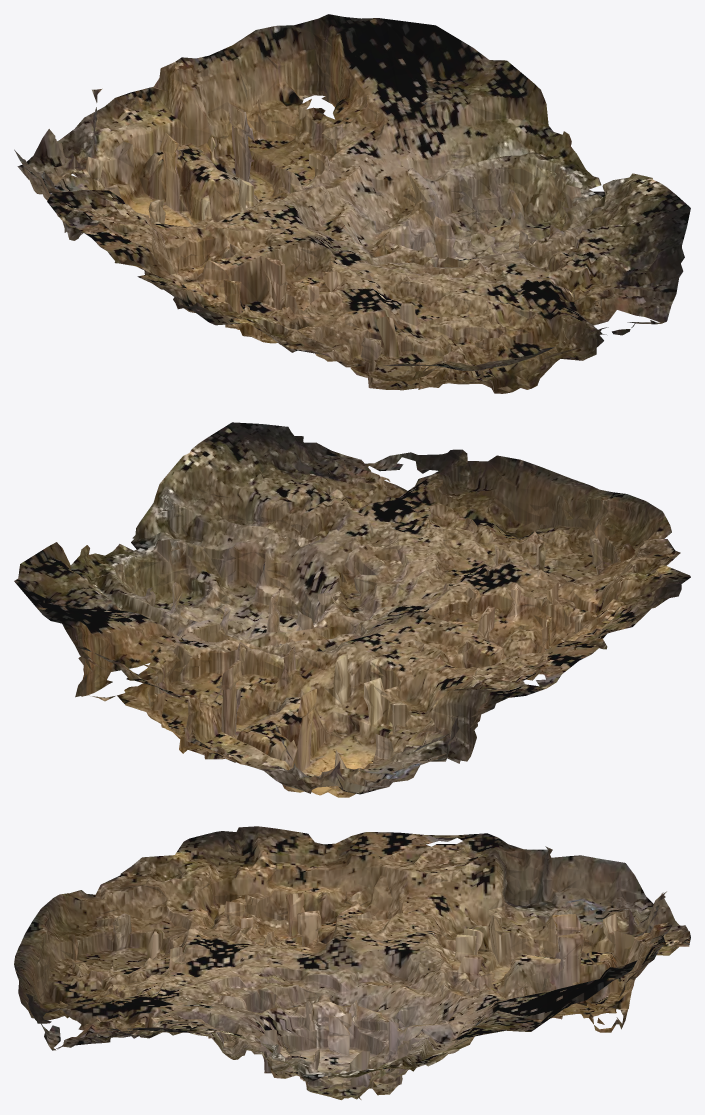
File: gobekli-scan-lite.glb
3 renders of one model, top to bottom at view 1: azimuth 30°, elevation 25°; view 2: azimuth 150°, elevation 25°; view 3: azimuth 270°, elevation 25°, orthographic. The views are drawn at different scales.
Parts seen in each view (by area): view 1: Object_2; view 2: Object_2; view 3: Object_2.
Boxes of the visible parts, x1,y1,x2,y2 form: Object_2: (14, 14, 690, 393); Object_2: (14, 422, 690, 797); Object_2: (14, 826, 690, 1100).
Bounding box in the file's own units: 35.54 × 9.08 × 46.68.
Materials: 1 (1 with a texture image).
